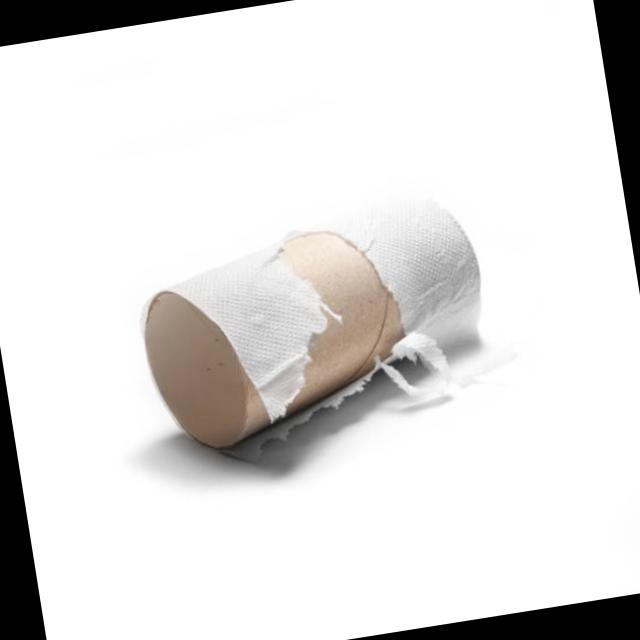electronic: (124, 182, 504, 463)
